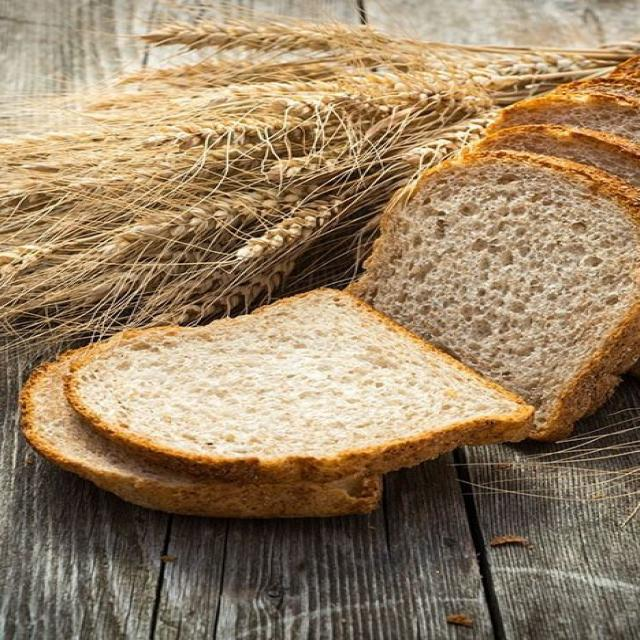sliced_bread: (66, 290, 531, 482), (352, 151, 639, 440), (22, 351, 381, 517), (472, 125, 639, 187), (489, 93, 639, 142), (554, 75, 639, 98), (609, 56, 639, 79)
